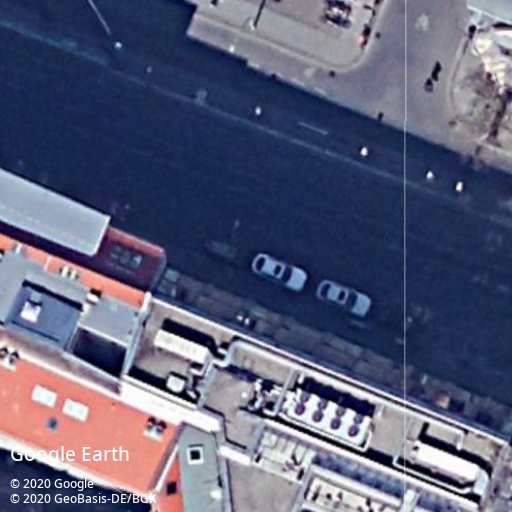Chiller: (286, 388, 373, 447)
